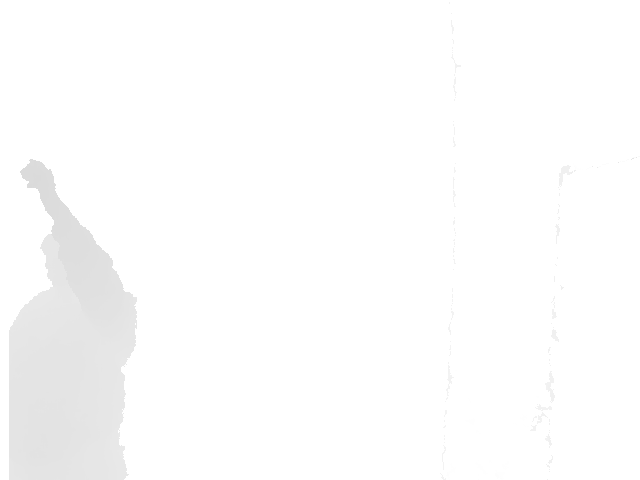hand: (19, 158, 67, 211)
head: (40, 232, 82, 289)
person: (8, 158, 140, 480)
